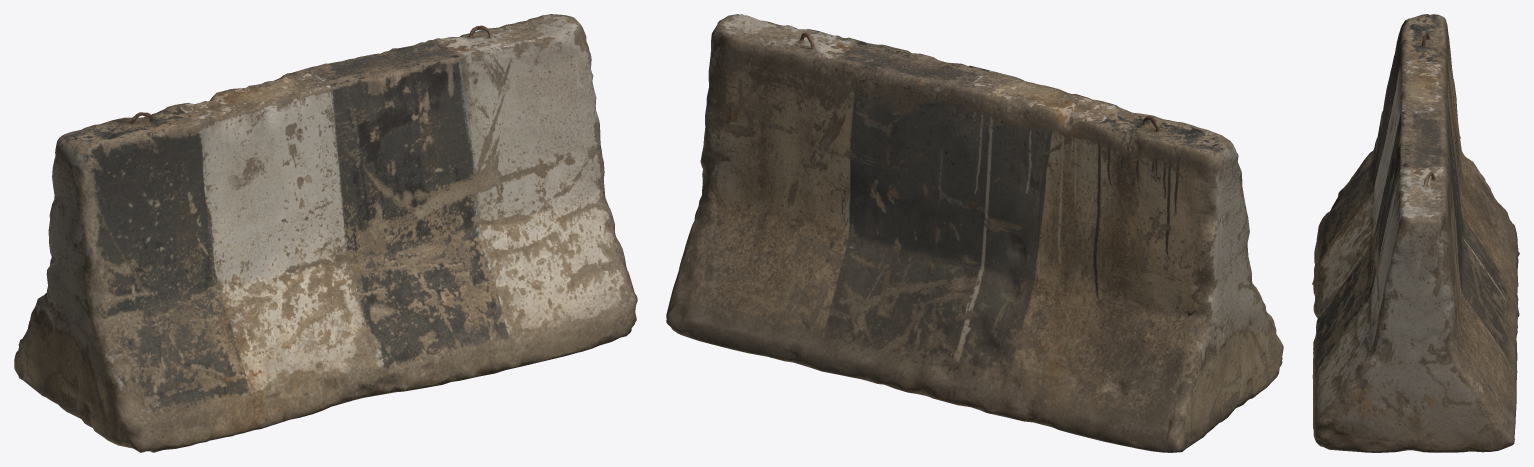
The model's file is concrete_road_barrier.glb.
The picture shows the model from 3 angles, left to right: view 1: azimuth 30°, elevation 25°; view 2: azimuth 150°, elevation 25°; view 3: azimuth 270°, elevation 25°; orthographic projection. The views are drawn at different scales.
Parts seen in each view (by area): view 1: concrete_road_barrier; view 2: concrete_road_barrier; view 3: concrete_road_barrier.
Part boxes in pixels (left/top/right/bottom): concrete_road_barrier: left=14, top=14, right=637, bottom=452; concrete_road_barrier: left=666, top=14, right=1283, bottom=452; concrete_road_barrier: left=1312, top=14, right=1519, bottom=452.
Bounding box in the file's own units: 1.54 × 0.8303 × 0.6386.
Materials: 1 (1 with a texture image).
